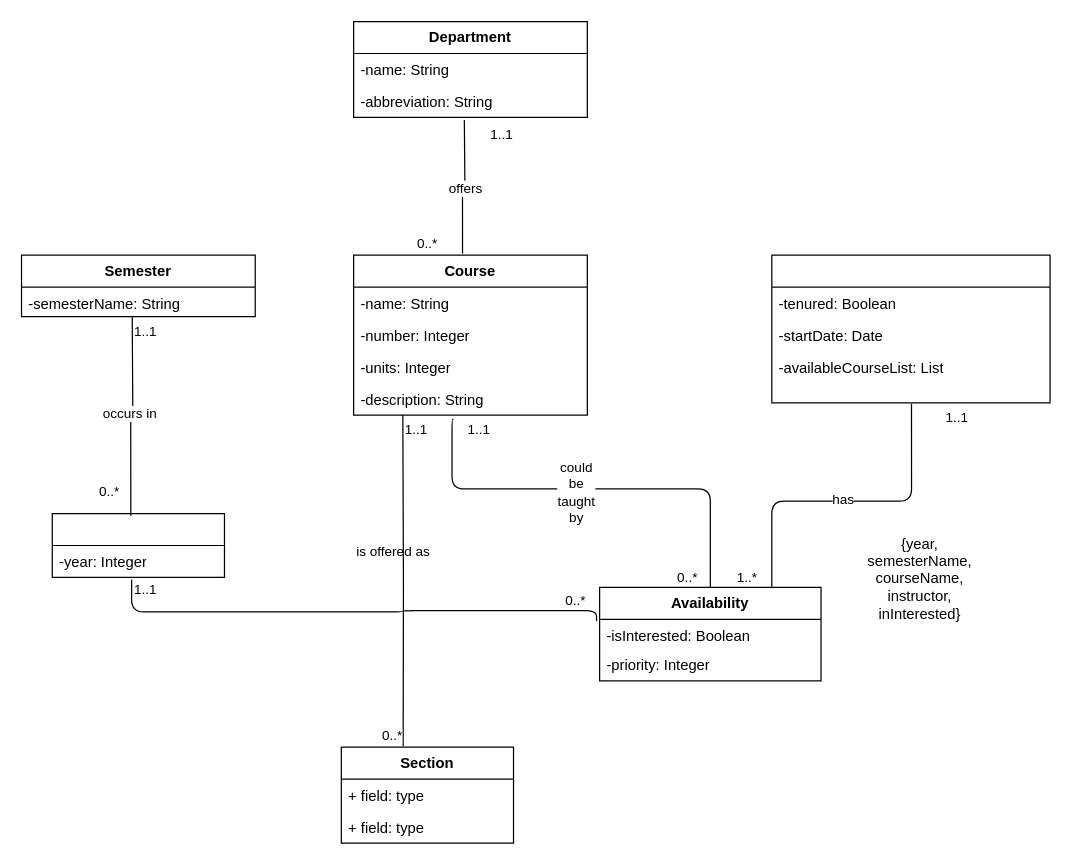
The diagram is 1073 pixels wide and 868 high, and some of its shapes have lost their labels. The shapes that lost their labels are listed below. From the top down, each one's box as (x1, y1, x2, y2) in pixels, then its label:
(771, 254, 1050, 403): Instructor
(51, 512, 224, 577): Season
